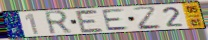1: (24, 12, 40, 35)
2: (162, 6, 185, 28)
E: (74, 9, 106, 34), (101, 8, 131, 32)
R: (42, 10, 74, 37)
Z: (131, 5, 164, 31)
